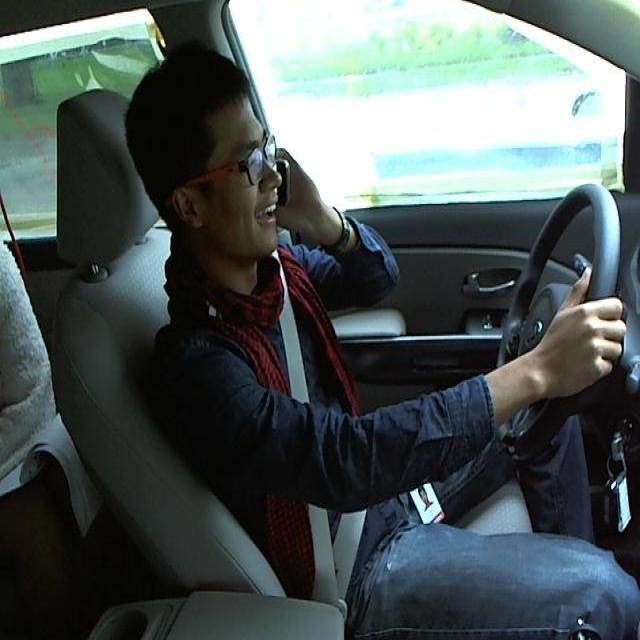using_phone: (83, 14, 393, 304)
